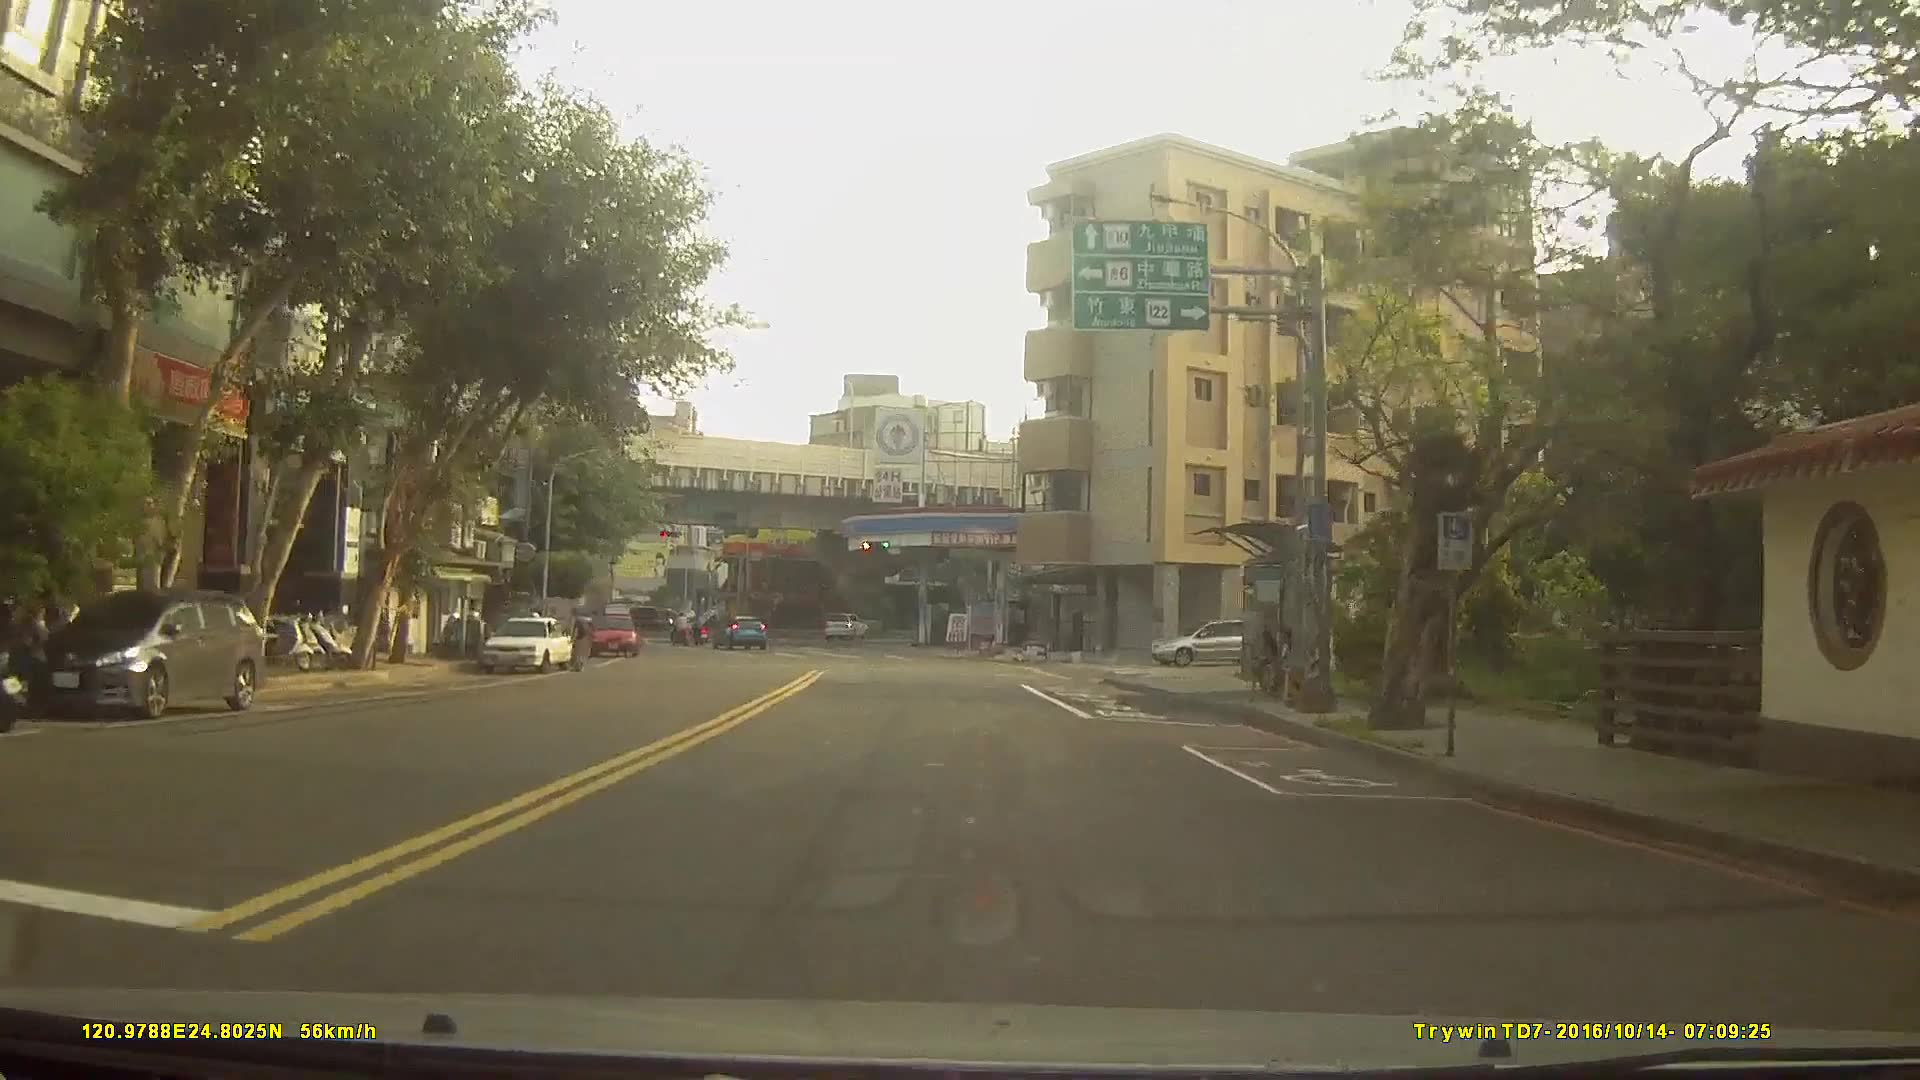pedestrian: (1277, 622, 1302, 703)
rider: (669, 613, 692, 651)
vehicle: (30, 583, 266, 719), (1146, 615, 1272, 664), (480, 616, 576, 673), (588, 608, 635, 655), (712, 612, 766, 650), (823, 611, 866, 639)
